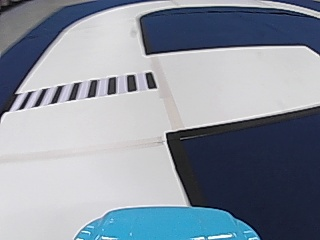CrossWalk: (25, 72, 156, 105)
